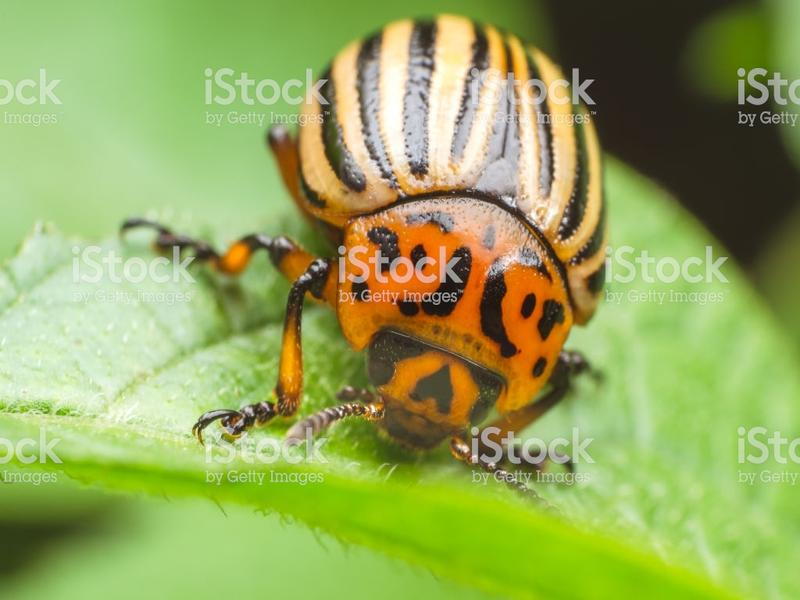hrosc: (269, 10, 617, 465)
